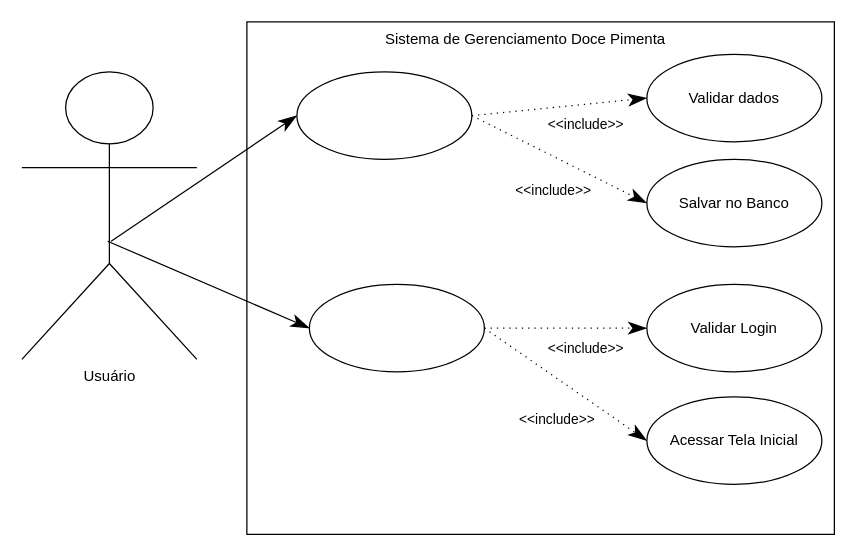
Image size: 856x556. Some labels were removed from this diagram. The shapes that lost their labels are listed below. From the top down, each one's box as (x1, y1, x2, y2) in pixels, then its label:
(296, 71, 472, 159): Cadastrar Usuário
(308, 283, 484, 372): Fazer Login
